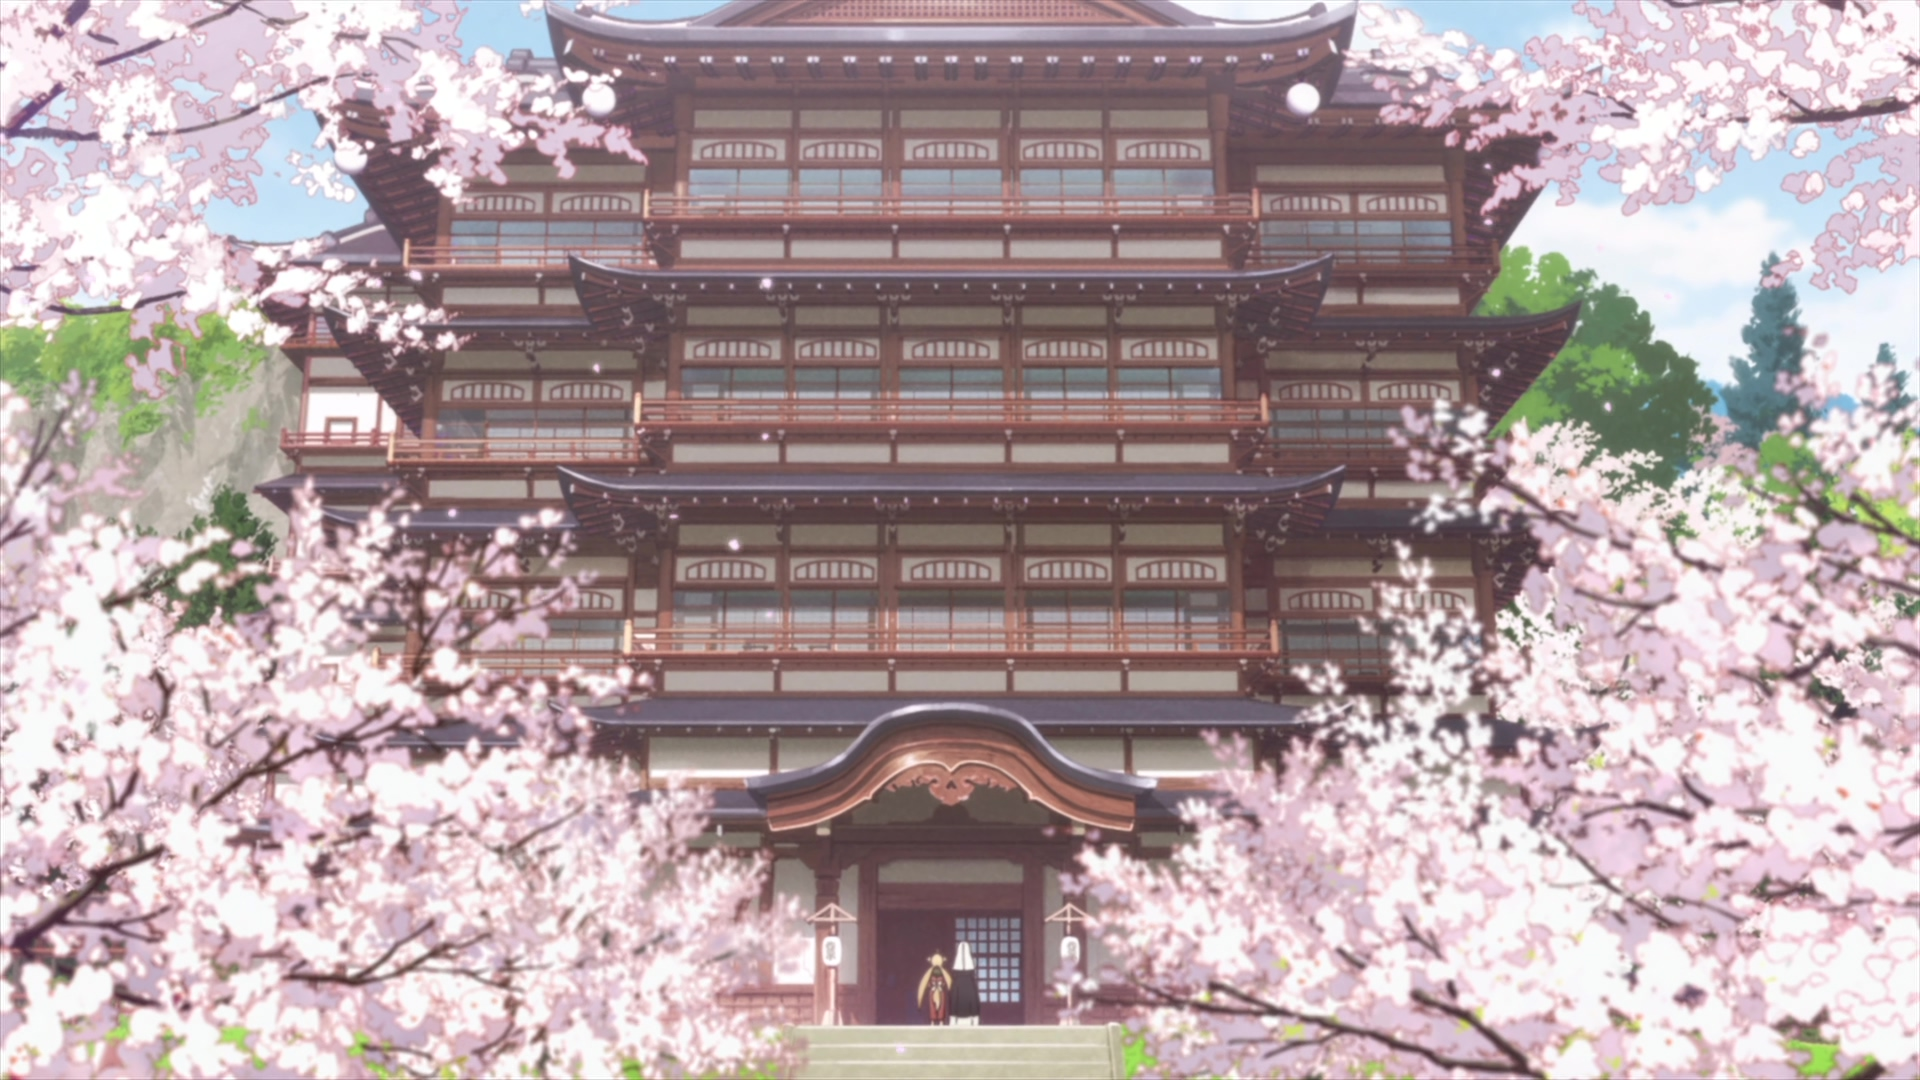八百比丘尼: (948, 942, 980, 1026)
柚: (916, 949, 952, 1026)
